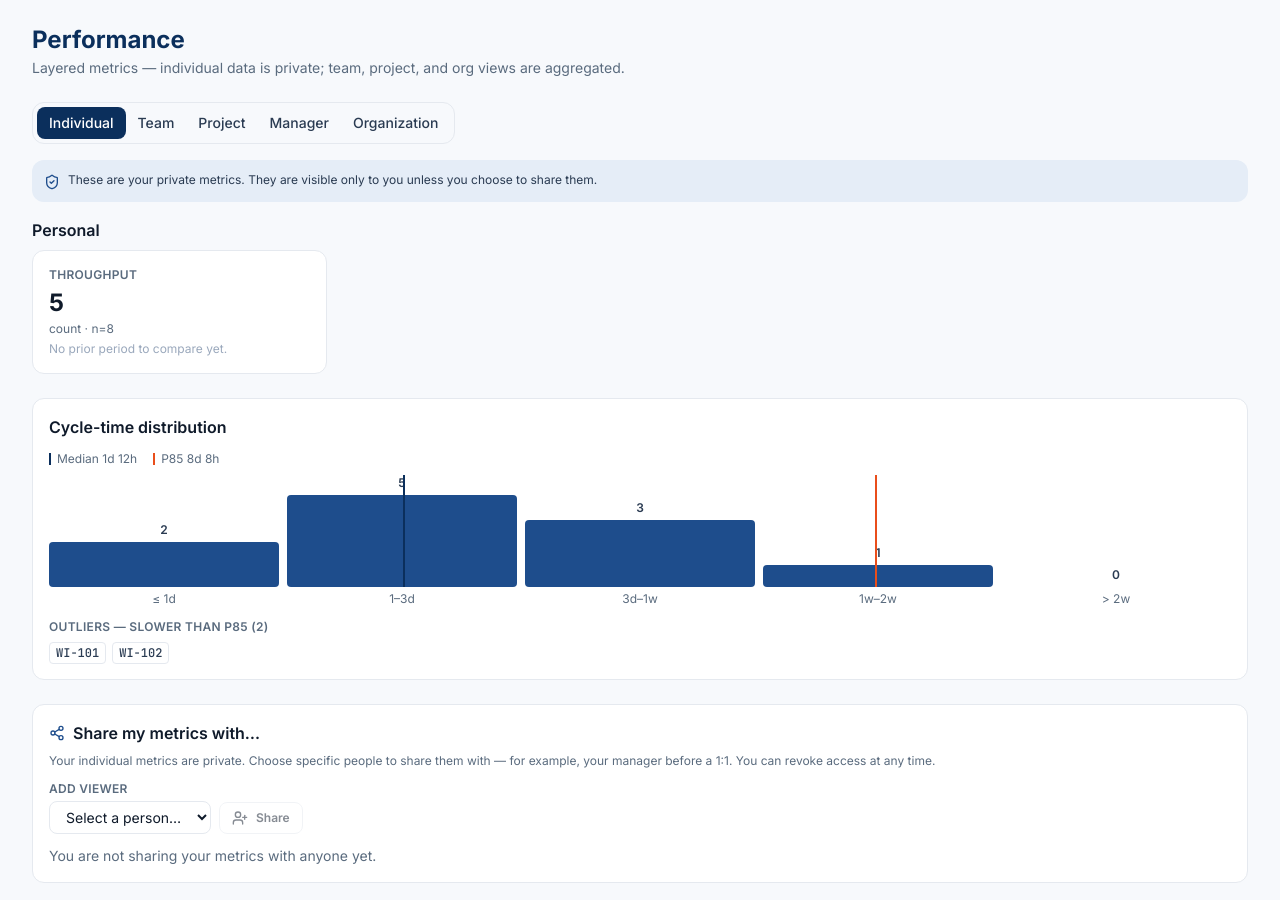
Scenario: PerformancePanel › loads project metrics when switching to Project
Expected: the text "Throughput" is shown, [49,267,137,283]
What coordinates should you click on to do the following:
click the tab "Project"
I would click on:
 (222, 123)
Its box is [186,107,258,139].
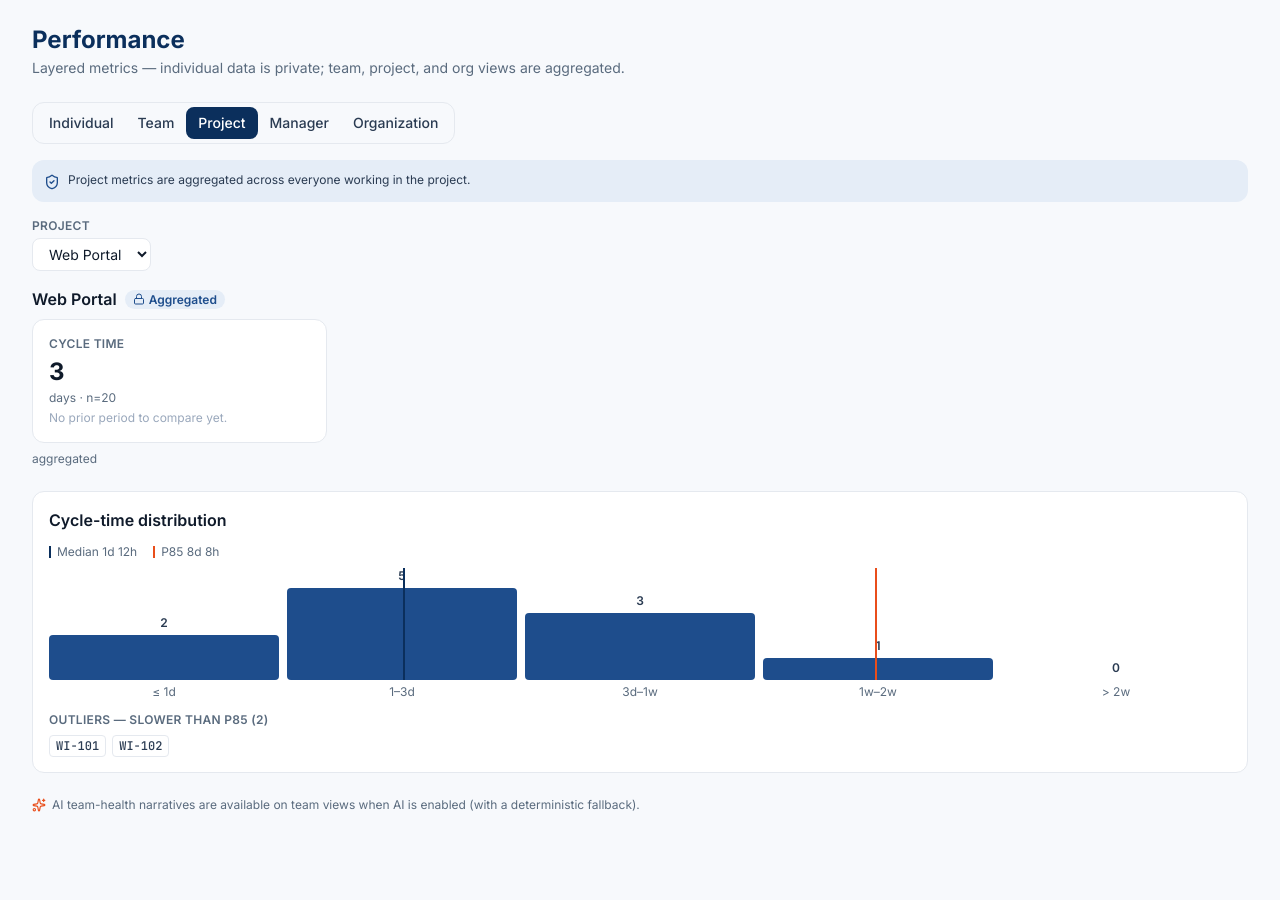
Now the text "Cycle time" is shown, box [49,336,124,352]
